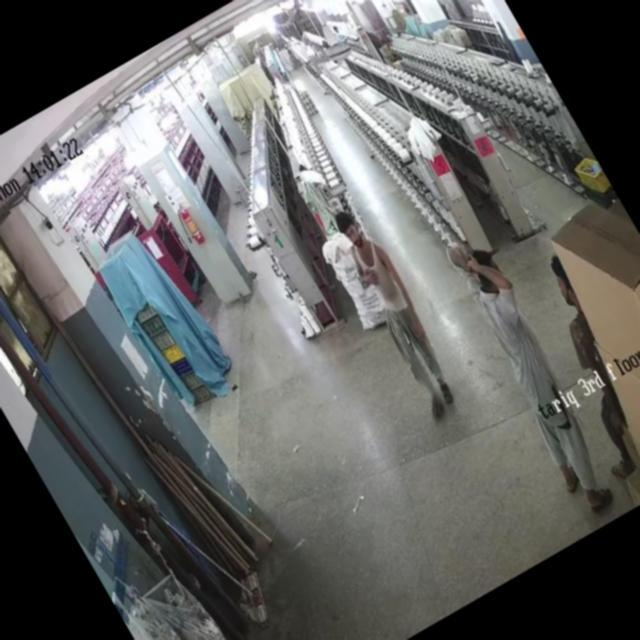person: (437, 240, 622, 507), (326, 208, 469, 411), (517, 257, 640, 468)
